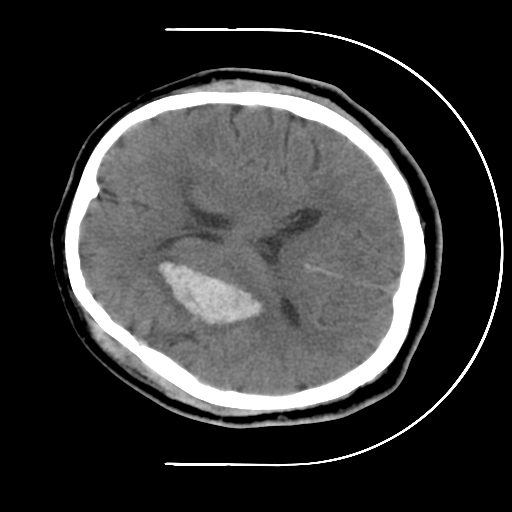a: (133, 243, 286, 346)
